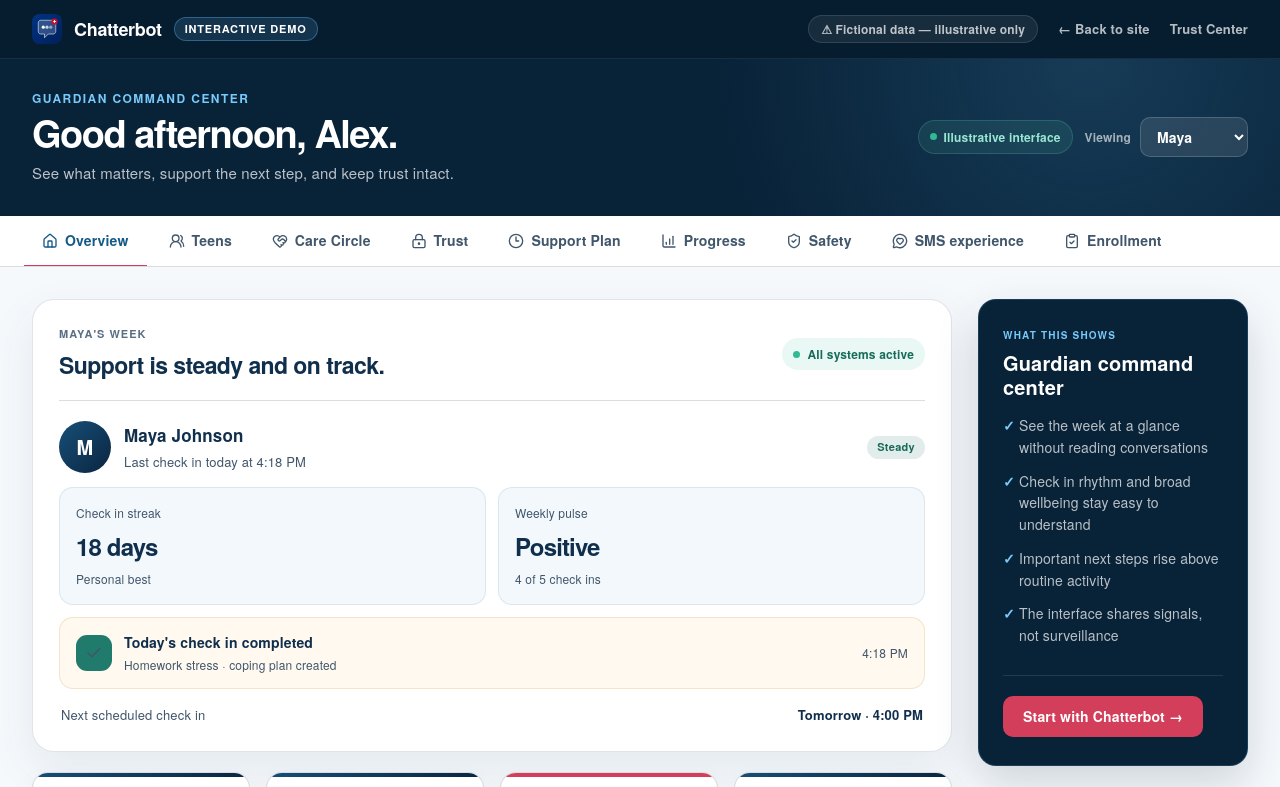
Test: Demo dashboard › lets the guardian inspect and pause a Care Circle member
The width and height of the screenshot is (1280, 787).
Click the button "Care Circle".
click(321, 242)  # box [254,216,389,267]
(page scrolled)
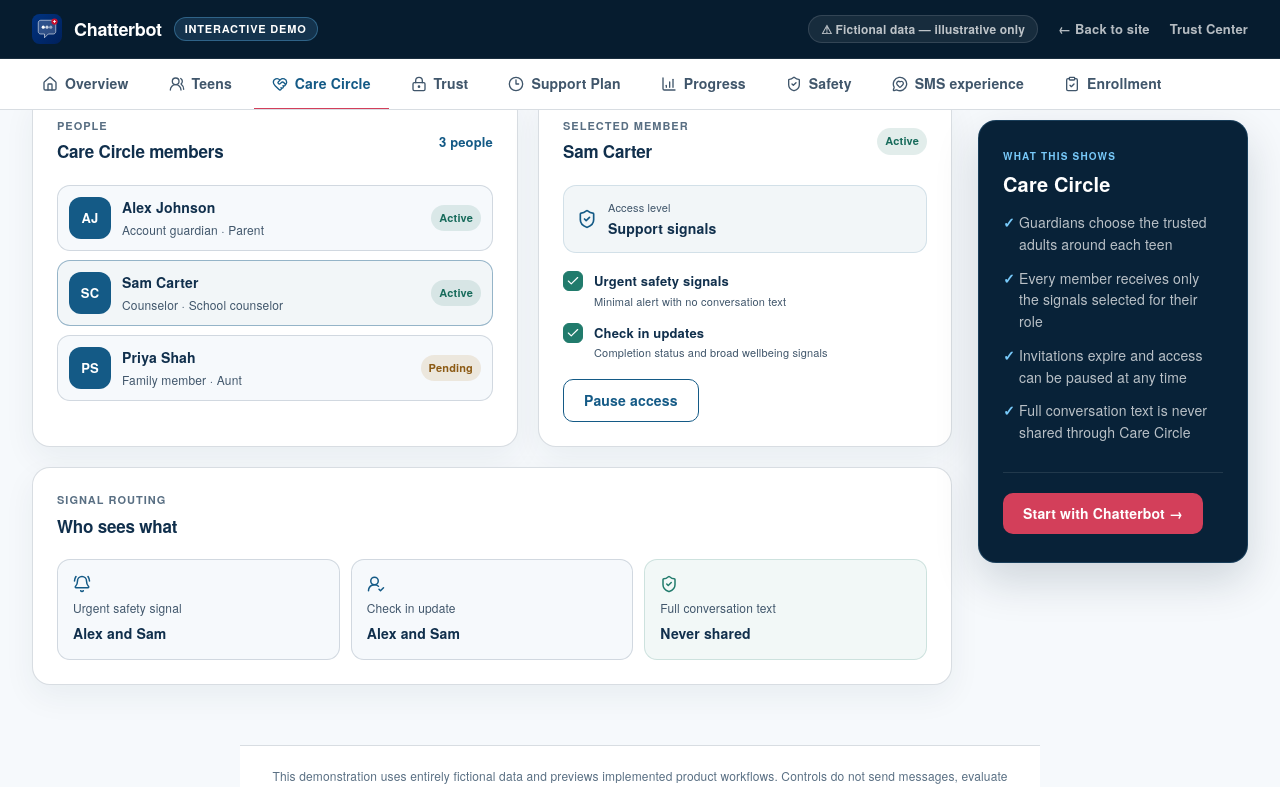
Result: the text "Full conversation text" is shown at [660,599,776,616]
Click the button "Pause access".
click(631, 401)  # box [563,379,699,422]
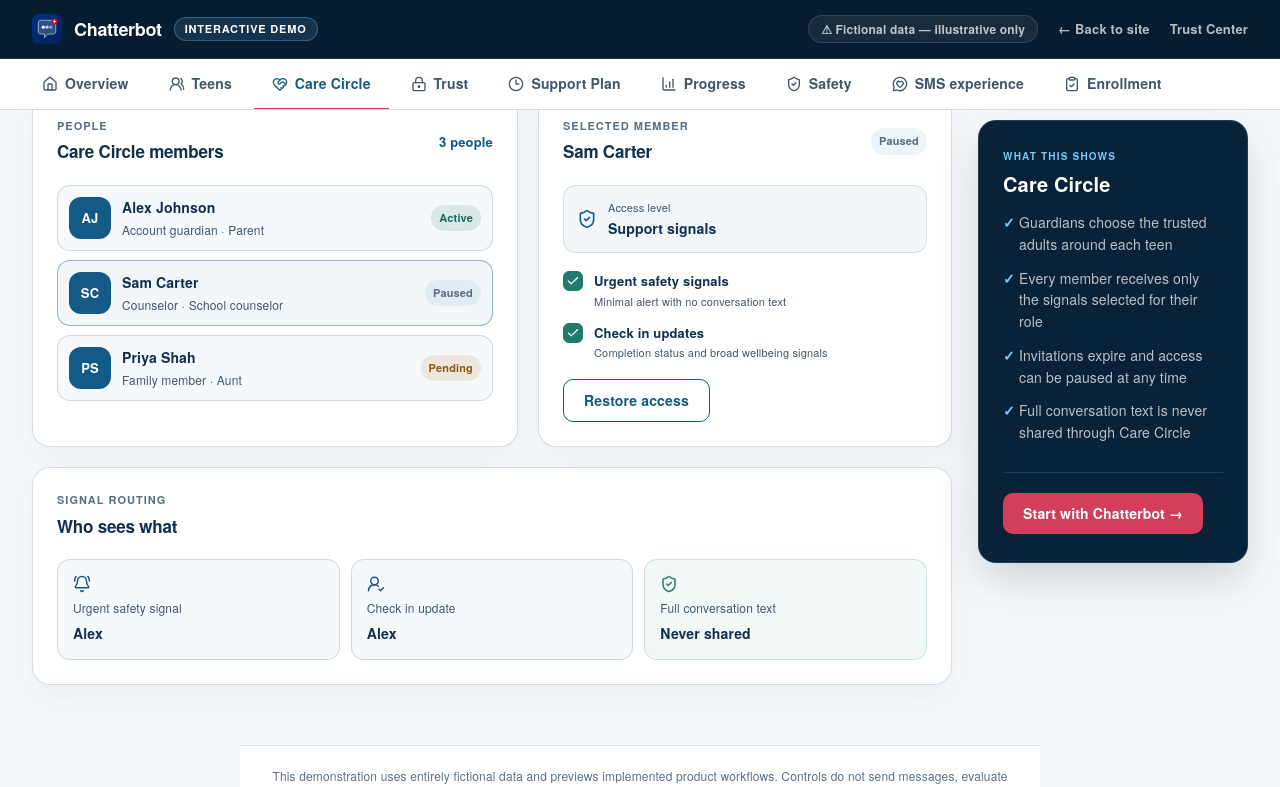
Result: the text "Paused" is shown 2 times at [425,280,481,306]; [871,128,927,154]
Result: the text "Alex and Sam" is gone
